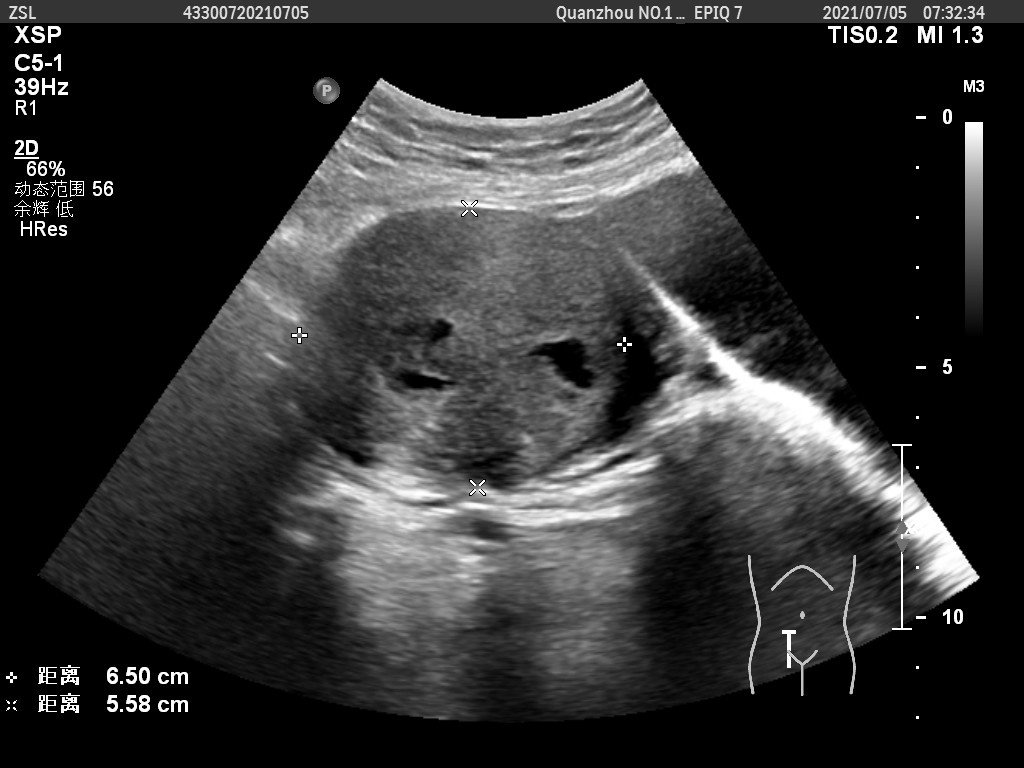肌瘤: (301, 208, 626, 489)
